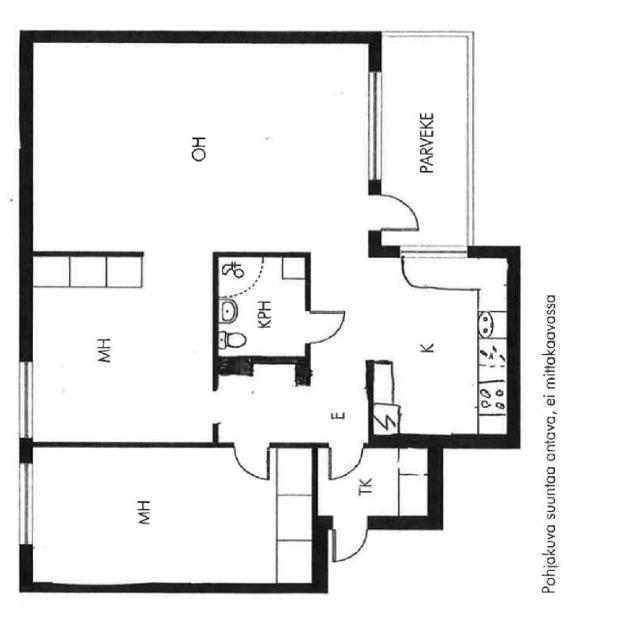door: (24, 41, 370, 251), (365, 189, 429, 237), (298, 302, 352, 349), (322, 441, 366, 484), (230, 441, 274, 482), (331, 524, 370, 564)
window: (358, 65, 391, 186), (14, 458, 41, 552), (13, 353, 39, 444), (393, 242, 472, 259)
zone: (15, 446, 316, 592), (25, 252, 214, 448), (360, 258, 512, 443), (213, 253, 308, 362), (215, 355, 317, 445), (318, 447, 432, 525)
